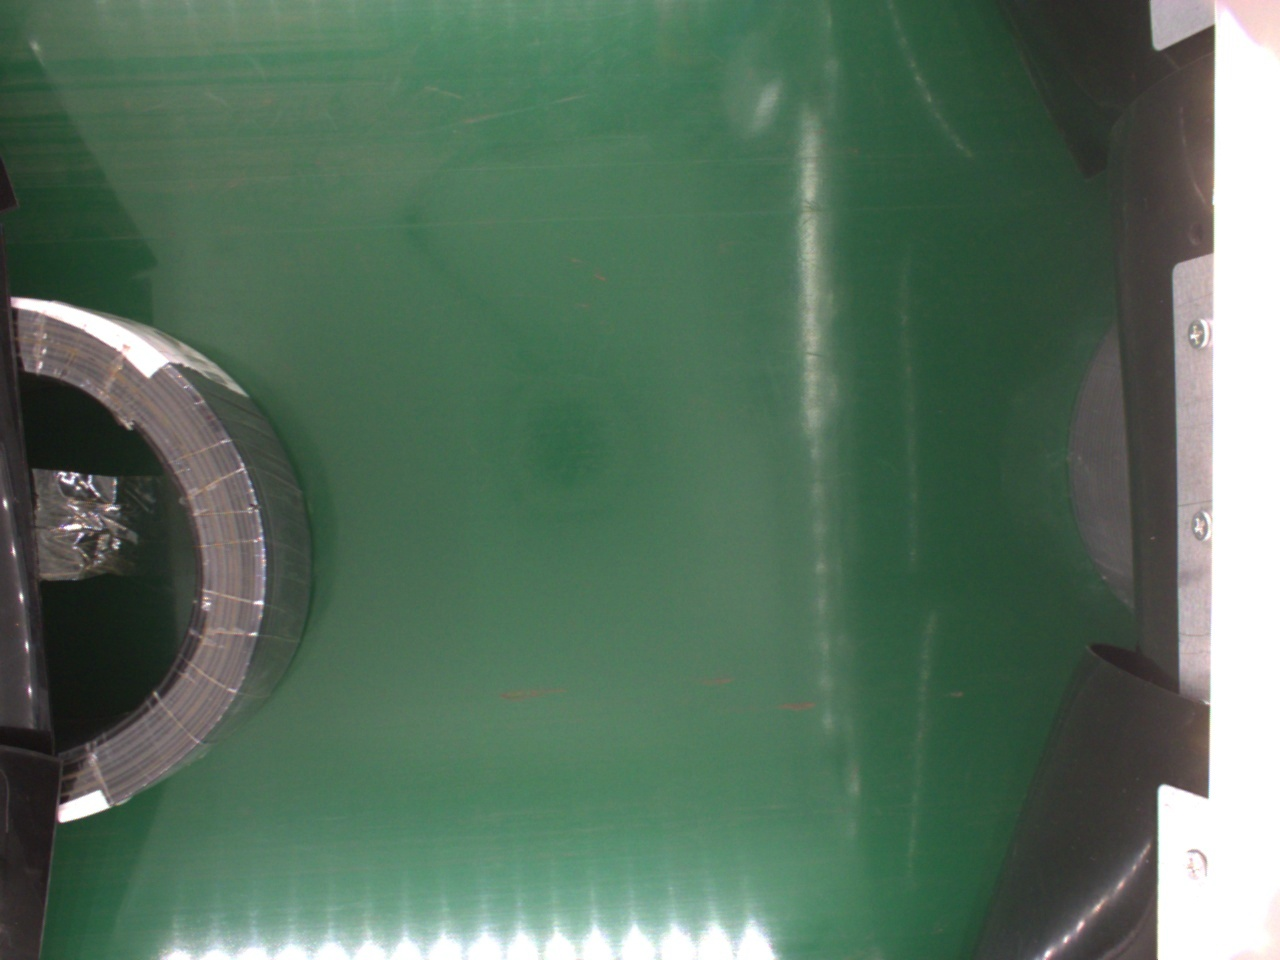black: (10, 298, 311, 822)
